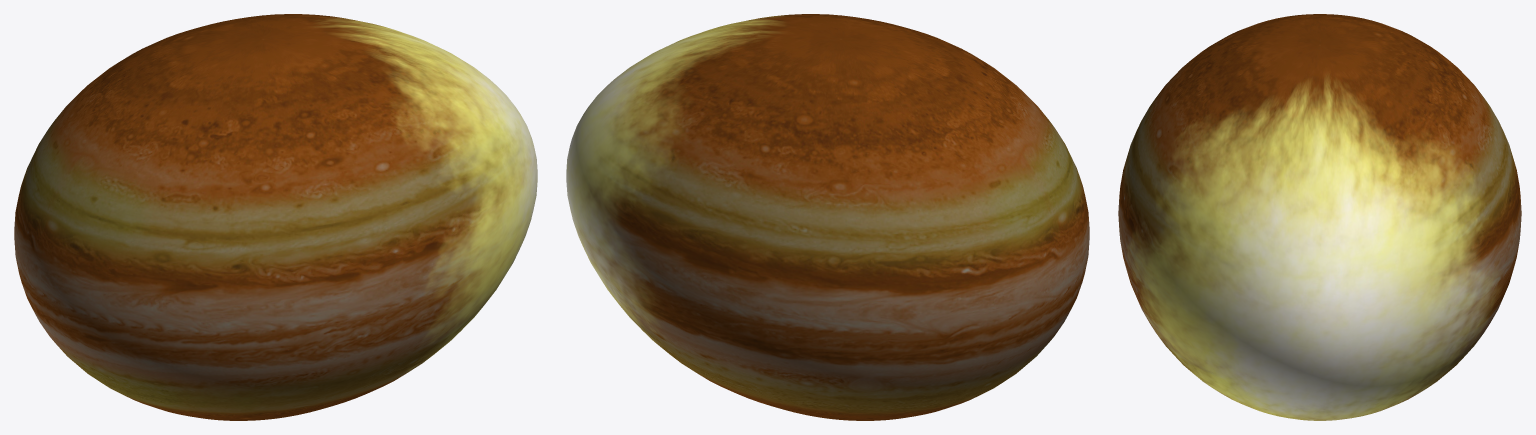
The model's file is wasp-12b.glb.
3 renders of one model, left to right at view 1: azimuth 30°, elevation 25°; view 2: azimuth 150°, elevation 25°; view 3: azimuth 270°, elevation 25°, orthographic. The views are drawn at different scales.
Visible parts, largest first — view 1: Sphere_029; view 2: Sphere_029; view 3: Sphere_029.
Part boxes in pixels (x1,y1,x2,y2): Sphere_029: (14,14,537,420); Sphere_029: (566,14,1089,420); Sphere_029: (1118,14,1521,420).
Size of the model in its own units: 3 by 2.1 by 2.25.
1 material, 1 textured.
